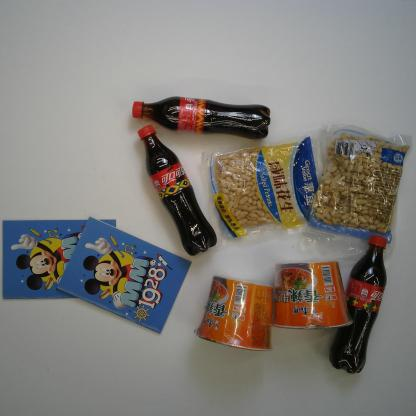Dried Fruit: (300, 122, 414, 264), (199, 128, 328, 246)
Drink: (136, 124, 218, 256), (328, 233, 388, 376), (132, 95, 272, 141)
Instant Noodles: (193, 274, 274, 353), (271, 261, 354, 331)
Stationery: (55, 216, 192, 335), (1, 218, 118, 300)
